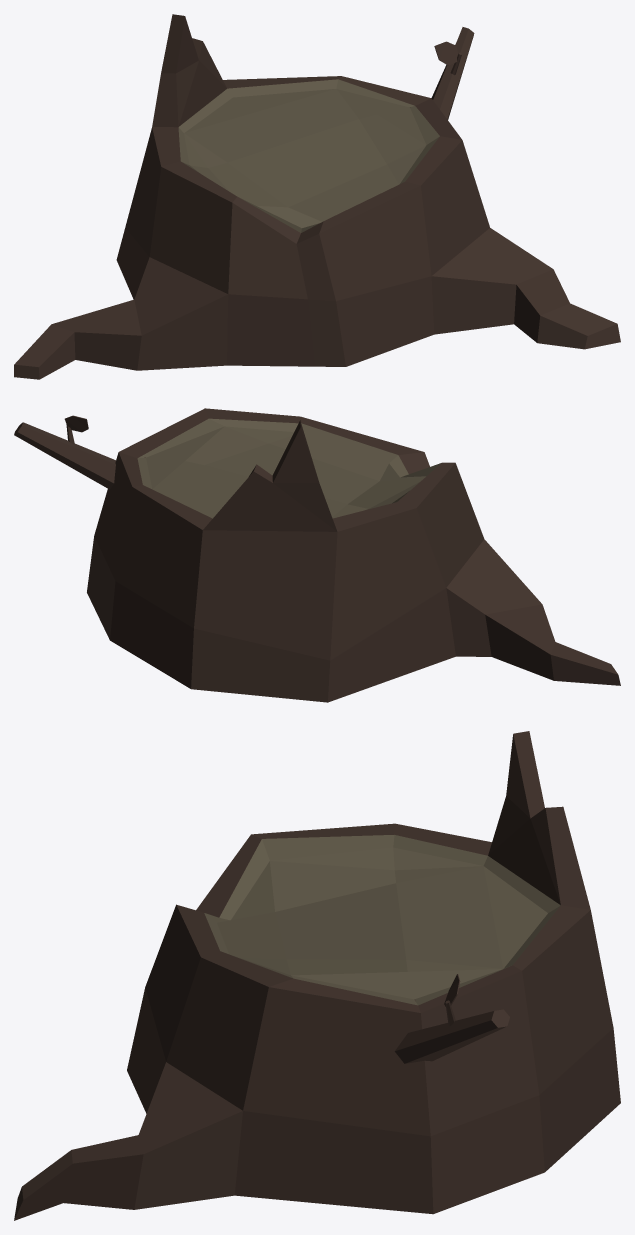
File: TreeStump_2.fbx
3 views of the same model, one above another, from view 1: azimuth 30°, elevation 25°; view 2: azimuth 150°, elevation 25°; view 3: azimuth 270°, elevation 25° (orthographic). The views are drawn at different scales.
Visible parts, largest first — view 1: TreeStump_2; view 2: TreeStump_2; view 3: TreeStump_2.
Part boxes in pixels (left/top/right/bottom): TreeStump_2: left=14, top=14, right=620, bottom=379; TreeStump_2: left=14, top=408, right=620, bottom=702; TreeStump_2: left=14, top=731, right=620, bottom=1220.
Size of the model in its own units: 4.07 by 1.86 by 3.09.
